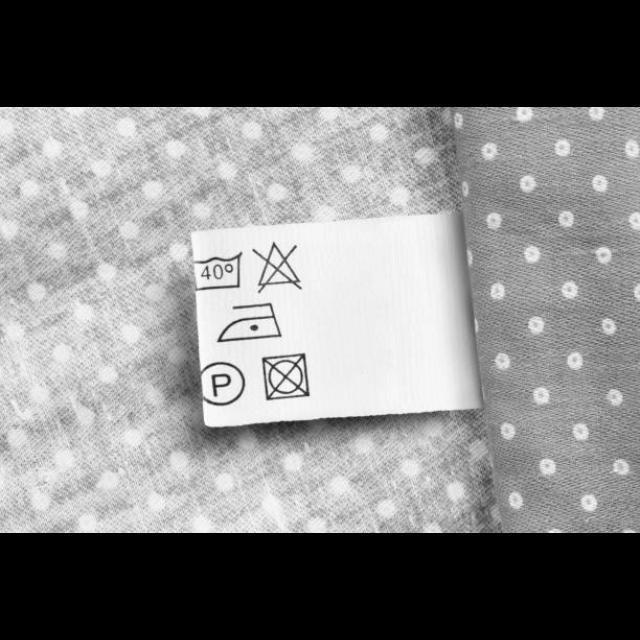40C: (191, 250, 247, 292)
DN_bleach: (248, 239, 308, 295)
DN_tumble_dry: (256, 352, 312, 402)
iron_low: (217, 298, 286, 346)
normal_dry_clean_solvents: (199, 358, 249, 408)
